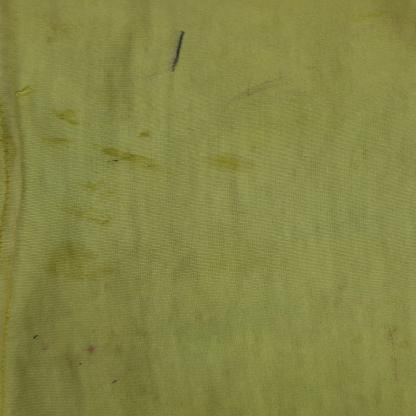spot: (29, 236, 124, 283), (223, 62, 291, 108), (99, 143, 178, 174), (378, 324, 414, 389), (196, 150, 284, 176), (44, 195, 117, 224), (70, 170, 138, 200), (156, 21, 190, 78), (24, 129, 94, 148), (51, 106, 95, 131), (77, 338, 110, 356), (29, 335, 62, 353), (134, 128, 165, 140), (105, 376, 133, 386)
